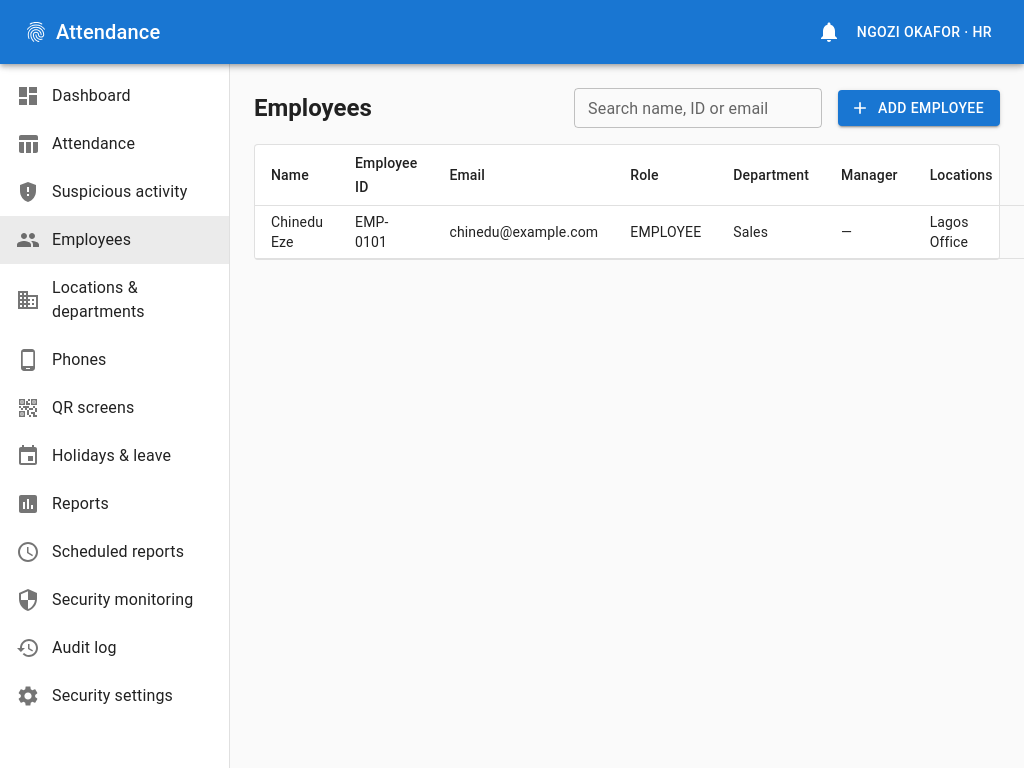
Test: Employees › a new employee needs a check-in location
The image size is (1024, 768).
Click the button "Add employee": (919, 108) [838,90,1000,126]
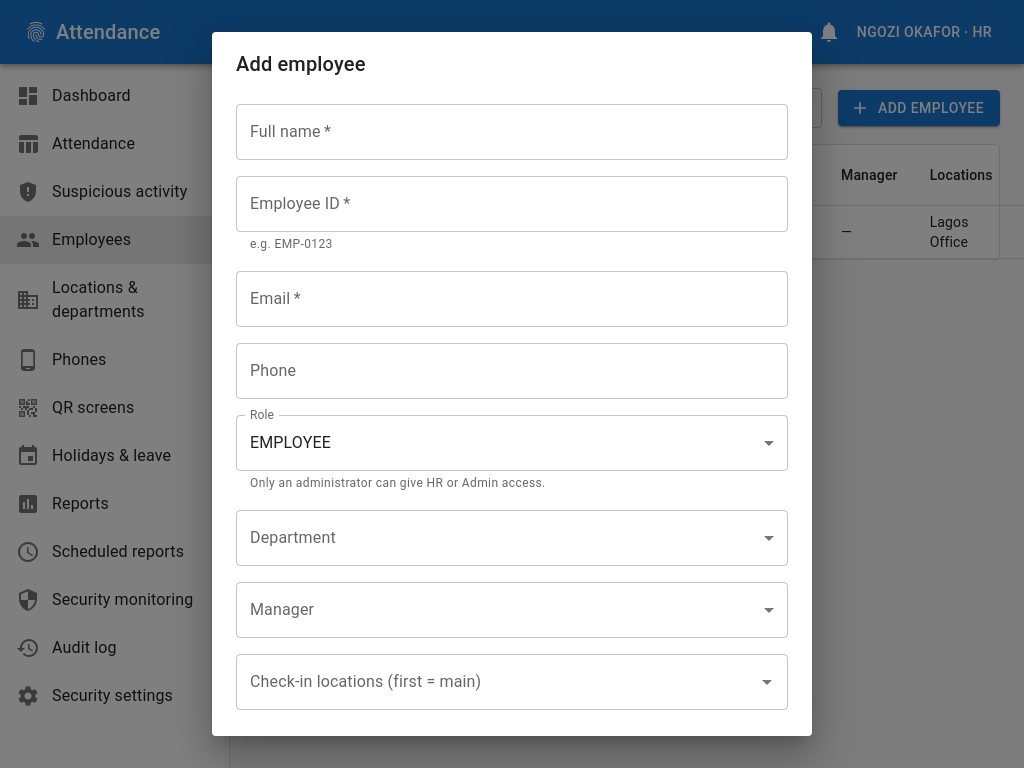
In the field labelled "Full name *": (512, 132) [236,104,788,160], type "Ada Obi"
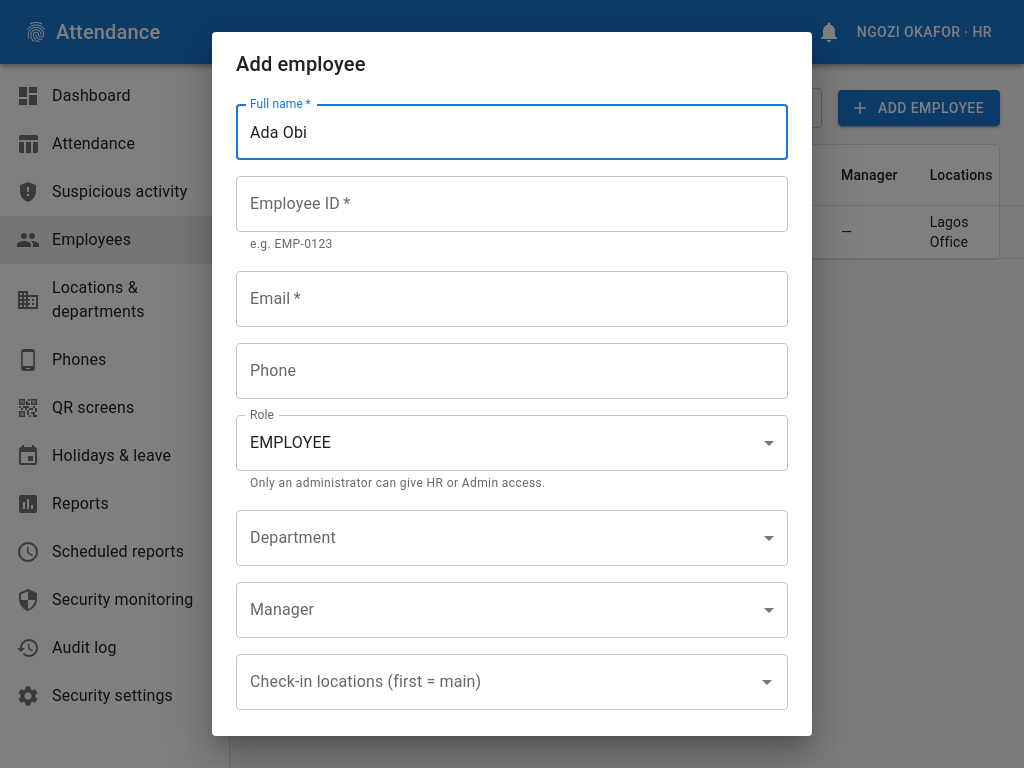
In the field labelled "Employee ID *": (512, 204) [236,176,788,232], type "EMP-0200"
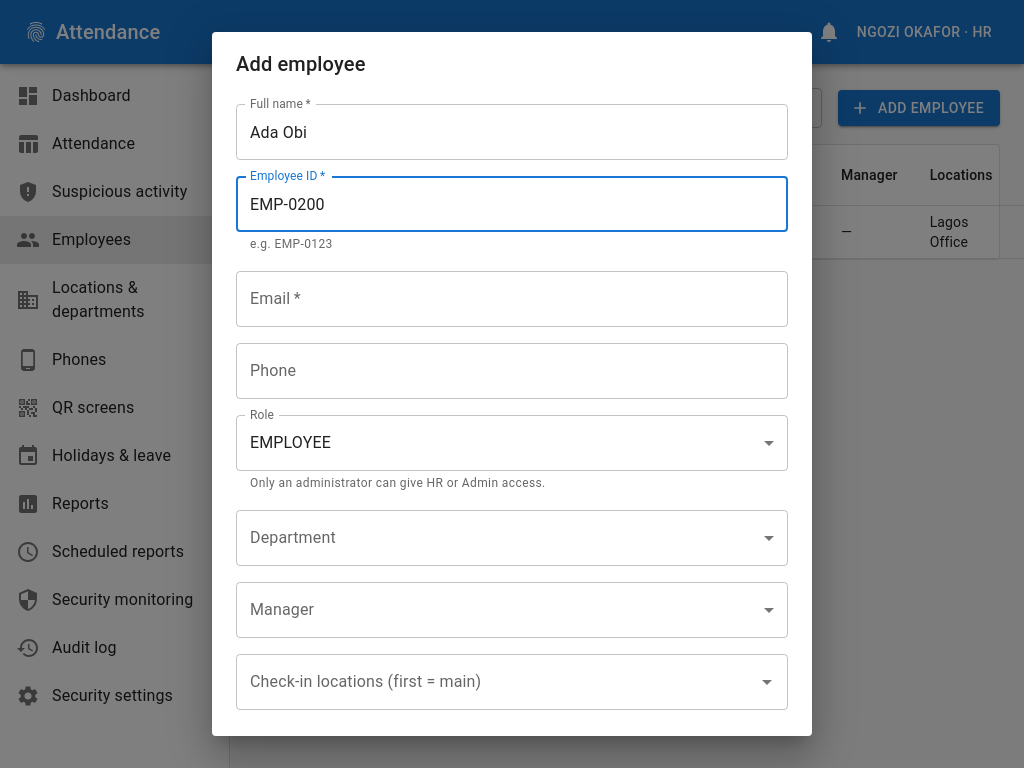
In the field labelled "Email *": (512, 299) [236,271,788,327], type "ada@example.com"
(page scrolled)
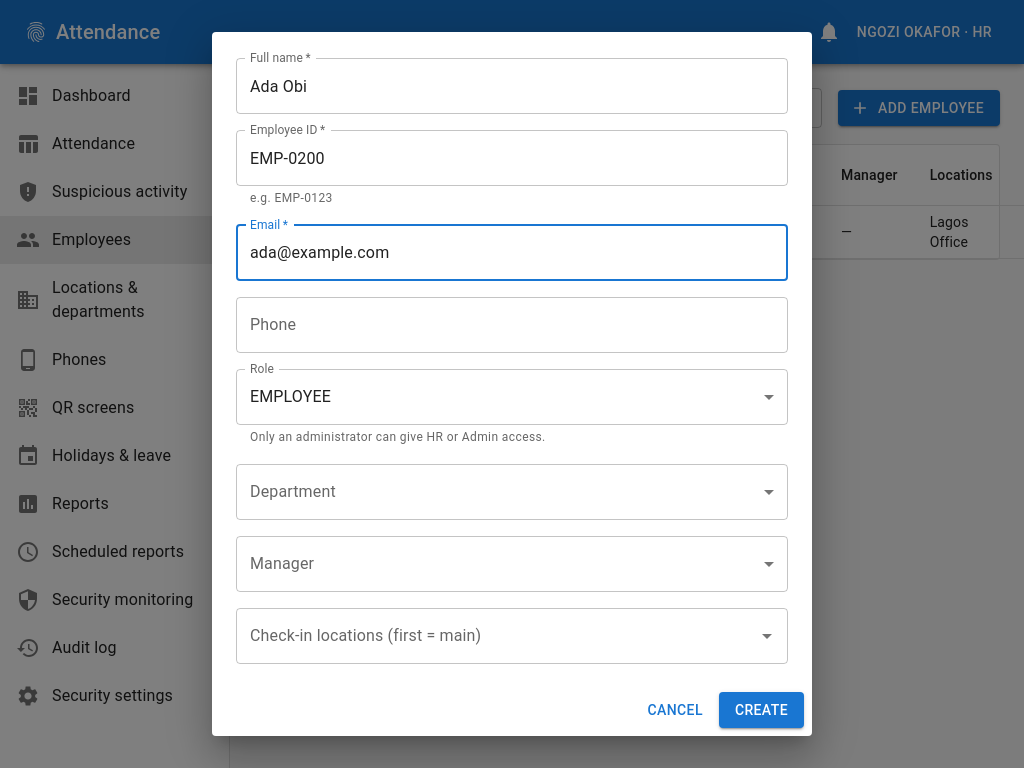
Click the button "Create": (761, 710) [719,692,804,728]
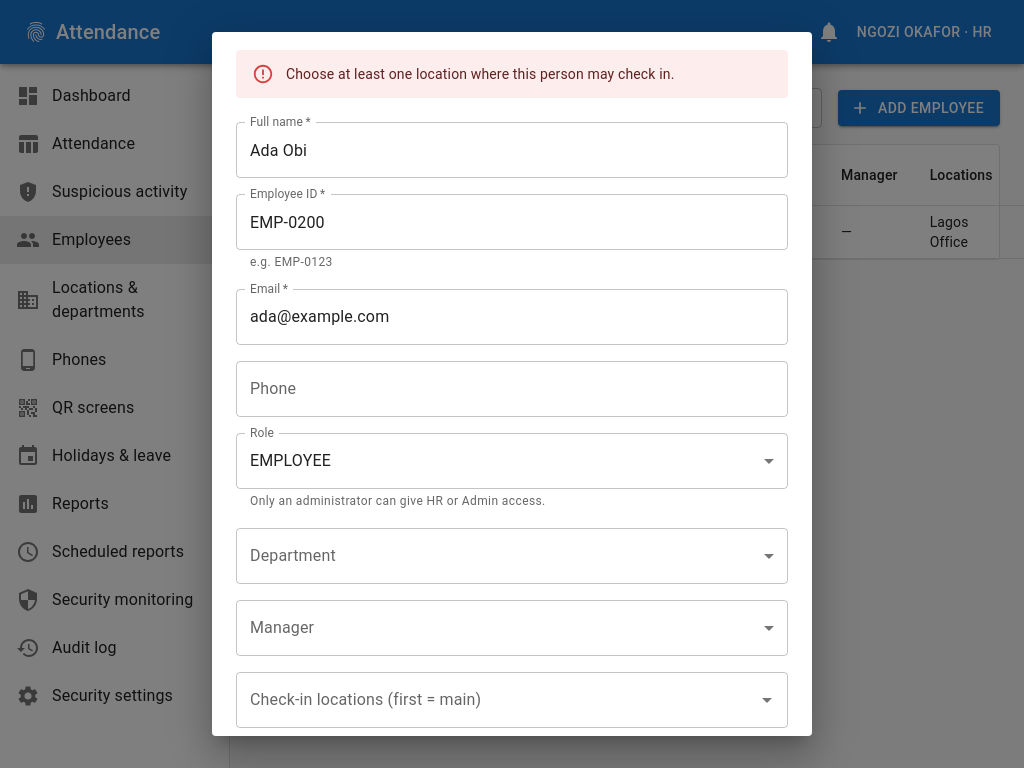
Expected: the text "Choose at least one location where this person may check in." is shown, [286,66,674,82]
